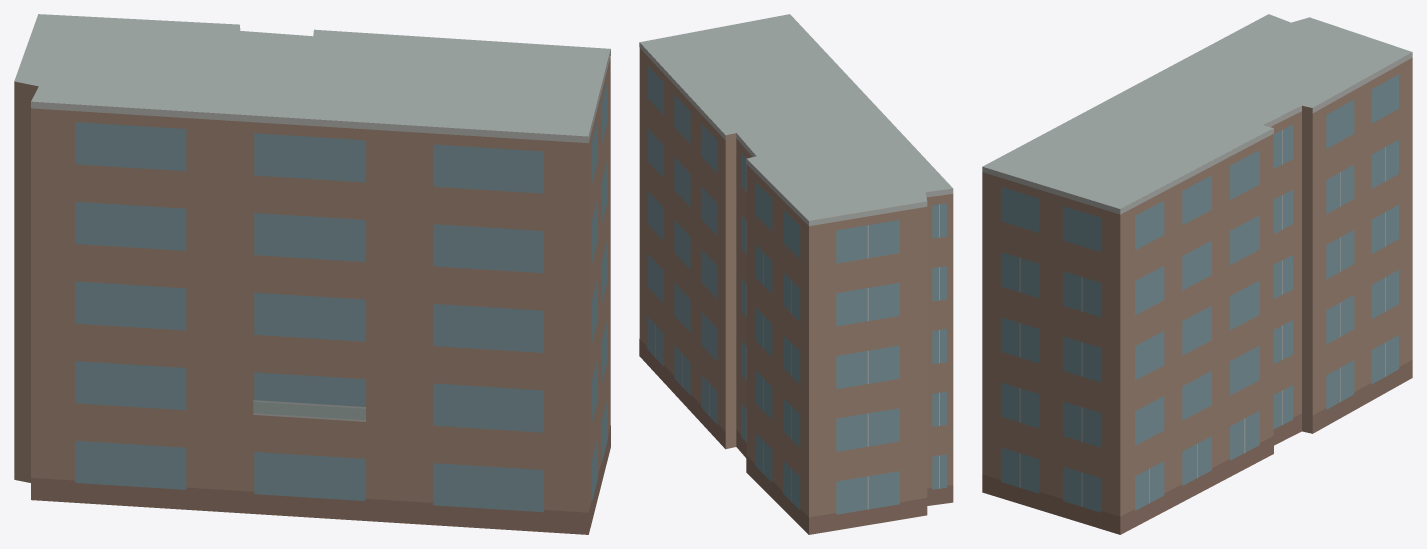
File: survey-upis-32897837.glb
The picture shows the model from 3 angles, left to right: view 1: azimuth 30°, elevation 25°; view 2: azimuth 150°, elevation 25°; view 3: azimuth 270°, elevation 25°; orthographic projection. The views are drawn at different scales.
Visible parts, largest first — view 1: survey-upis-32897837.tmp; view 2: survey-upis-32897837.tmp; view 3: survey-upis-32897837.tmp.
Boxes of the visible parts, <box> form: survey-upis-32897837.tmp: <box>14,14,610,534</box>; survey-upis-32897837.tmp: <box>639,14,953,534</box>; survey-upis-32897837.tmp: <box>982,14,1412,534</box>.
Bounding box in the file's own units: 18.77 × 14.6 × 17.49.
